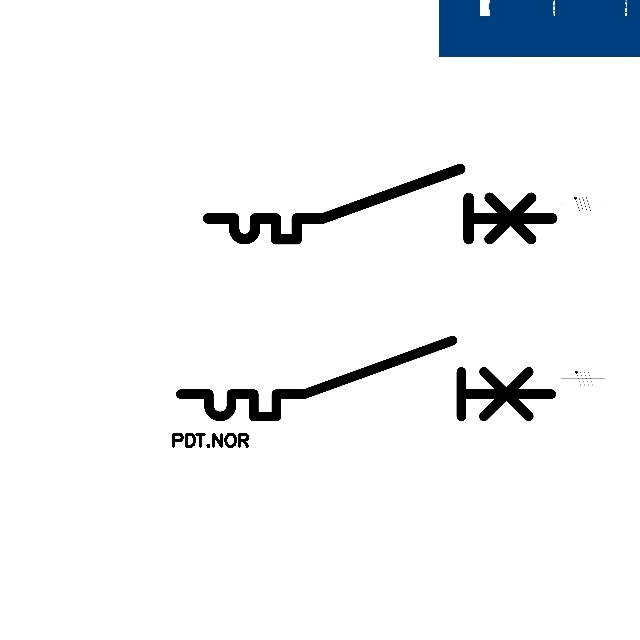interruptor_termomagnetico: (171, 331, 561, 426), (199, 160, 561, 248)
